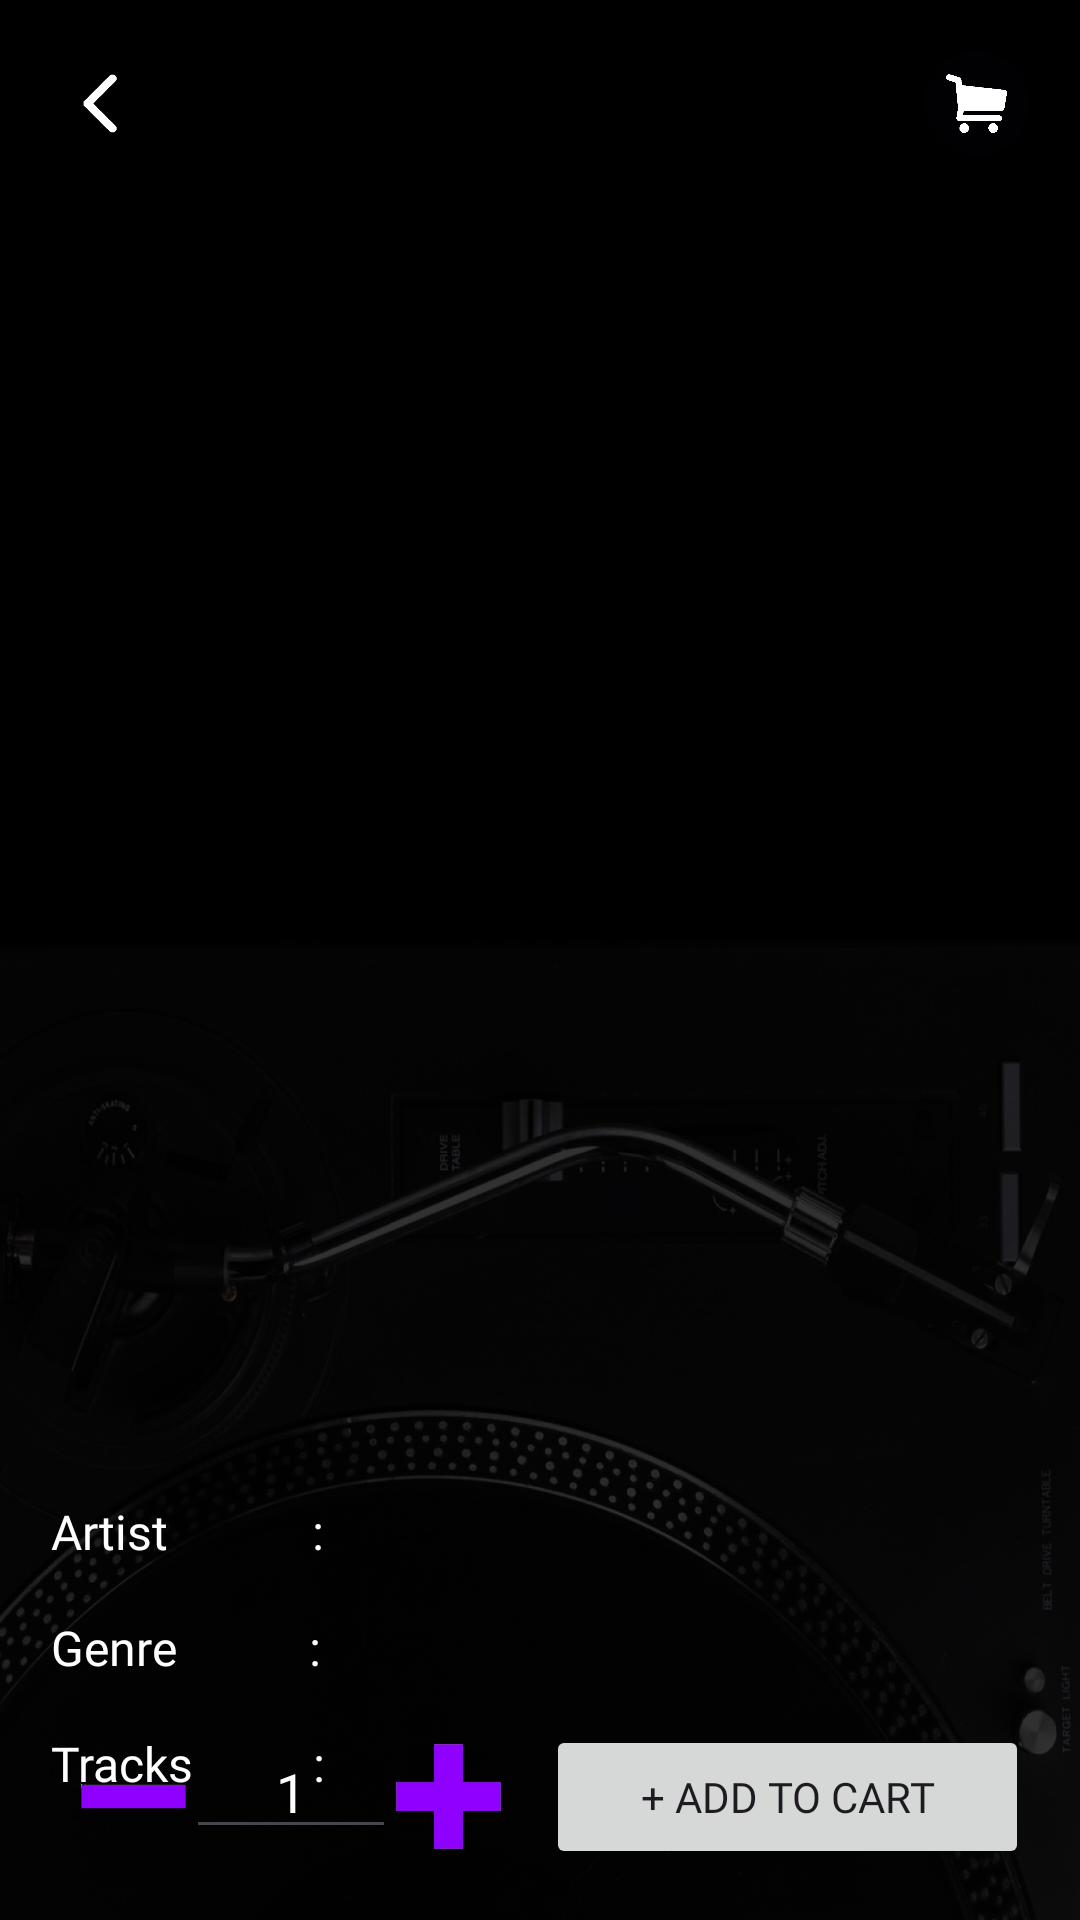

Where icons sit on this 1080 x 1920 app screen, as (x1, y1, x2, y2):
back: (83, 74, 117, 133)
cart: (946, 74, 1007, 133)
plus: (396, 1744, 501, 1849)
